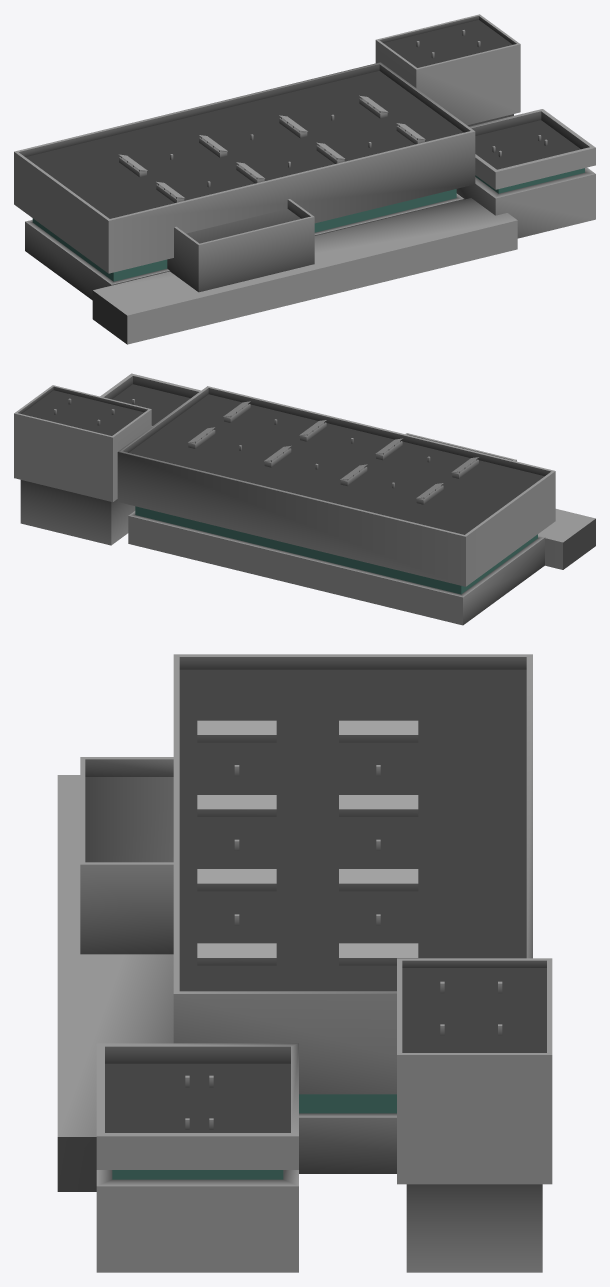
The model's file is Industrial_IndustrialBuilding_alt05.glb.
3 views of the same model, one above another, from view 1: azimuth 30°, elevation 25°; view 2: azimuth 150°, elevation 25°; view 3: azimuth 270°, elevation 25° (orthographic). The views are drawn at different scales.
Parts seen in each view (by area): view 1: base.058, windowRefl.039; view 2: base.058, windowRefl.039; view 3: base.058, windowRefl.039.
Part boxes in pixels (<box>): base.058: <box>14,14,595,344</box>; windowRefl.039: <box>32,168,584,281</box>; base.058: <box>14,373,595,625</box>; windowRefl.039: <box>135,506,537,594</box>; base.058: <box>57,654,552,1272</box>; windowRefl.039: <box>112,1094,396,1179</box>.
Size of the model in its own units: 50.86 by 11.92 by 23.76.
